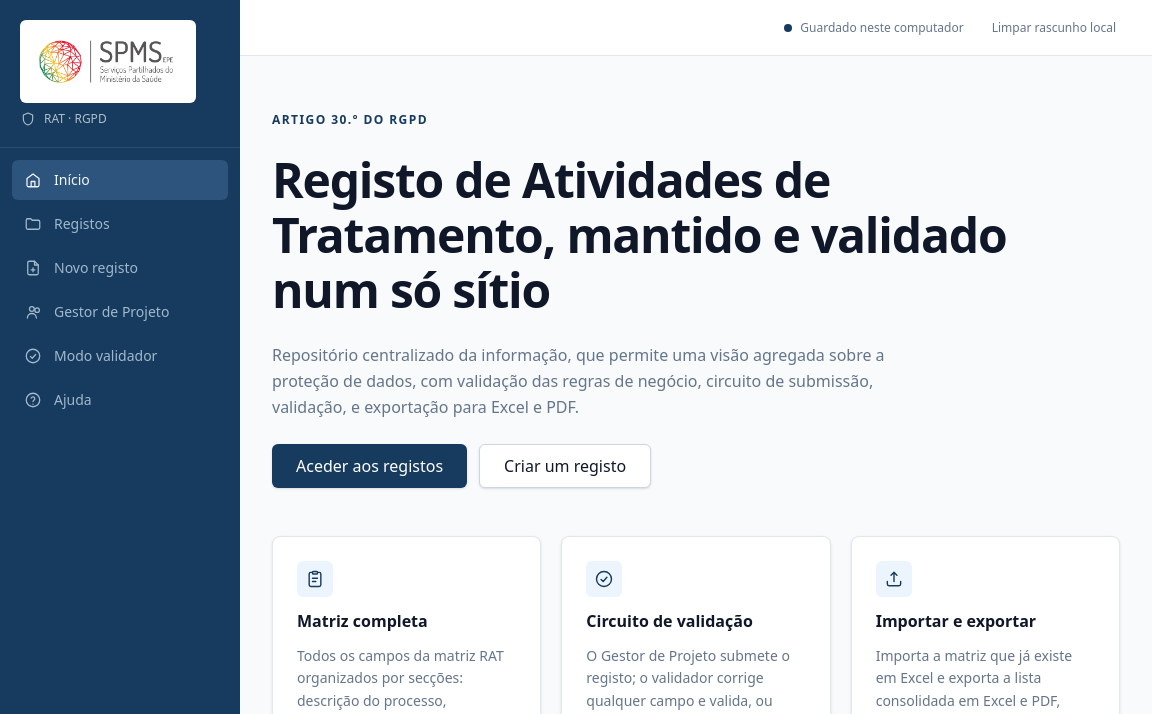
Test: página inicial › leva diretamente à criação de um registo
This screenshot has width=1152, height=714.
Step 1. Click the button "Criar um registo" → click(565, 466), box [479,444,651,488]
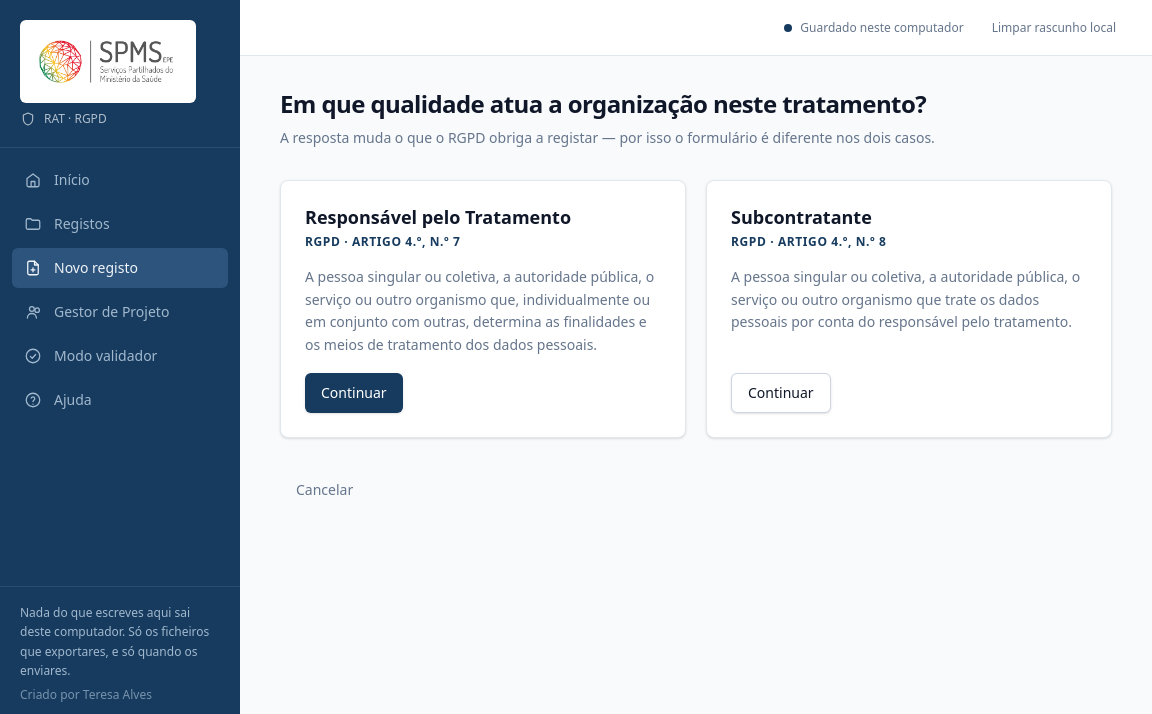
Expected: the heading "Em que qualidade atua a organização neste tratamento?" is shown, [280,87,926,120]
